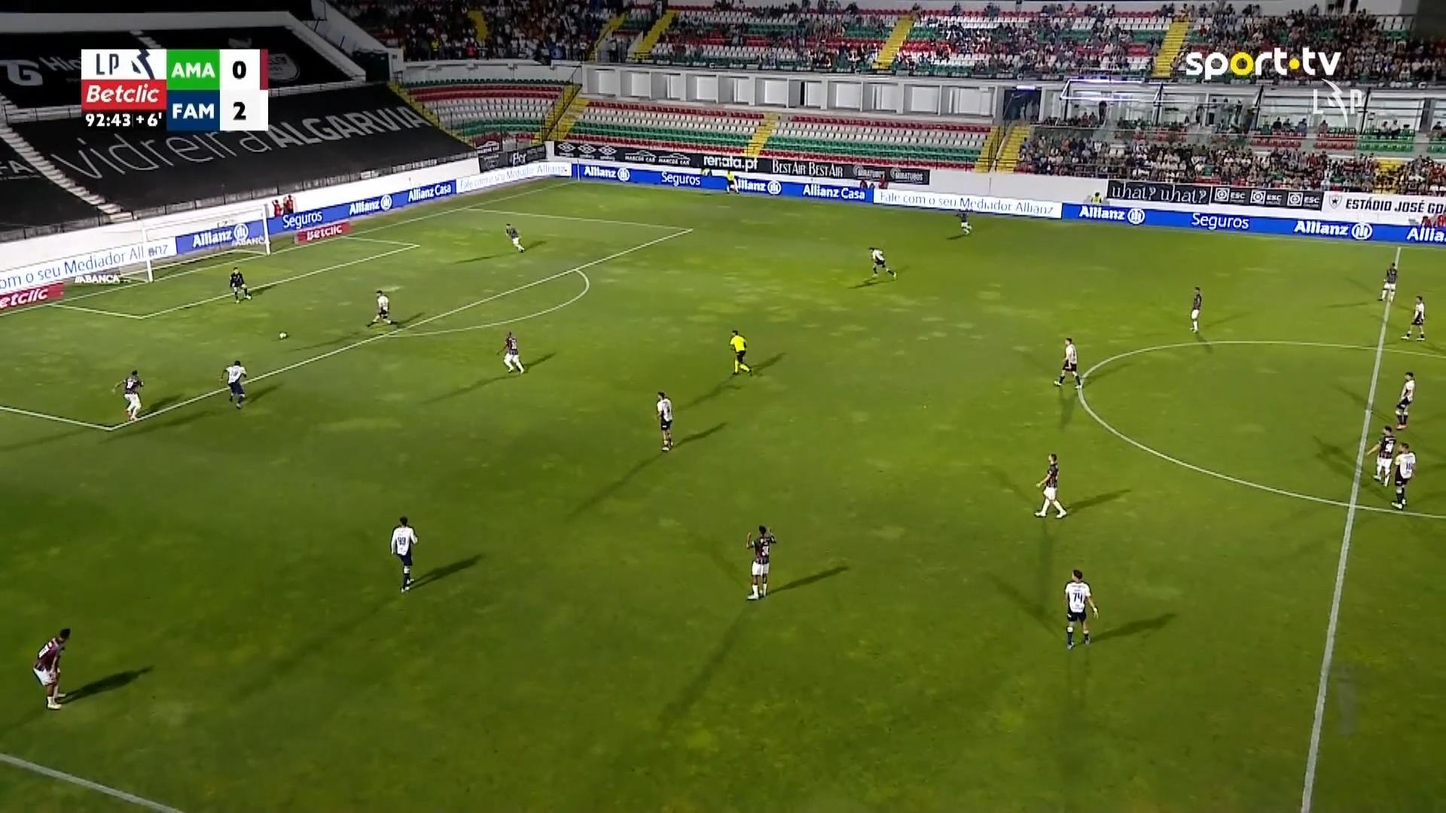ball: (278, 331, 288, 340)
goalkeeper: (228, 266, 251, 303)
player: (32, 626, 71, 709), (1063, 568, 1098, 649), (745, 525, 776, 600), (1033, 452, 1067, 519), (389, 515, 418, 593), (1364, 425, 1396, 486), (1389, 441, 1416, 509), (111, 369, 144, 422), (1052, 336, 1082, 389), (219, 359, 247, 409), (1393, 370, 1415, 429), (496, 330, 524, 373), (654, 390, 673, 452), (1401, 294, 1426, 341), (868, 246, 896, 279), (368, 288, 392, 325), (1377, 262, 1398, 303), (503, 222, 524, 253), (1189, 285, 1202, 332), (956, 209, 972, 235)
referee: (728, 328, 752, 376), (726, 170, 740, 195)
